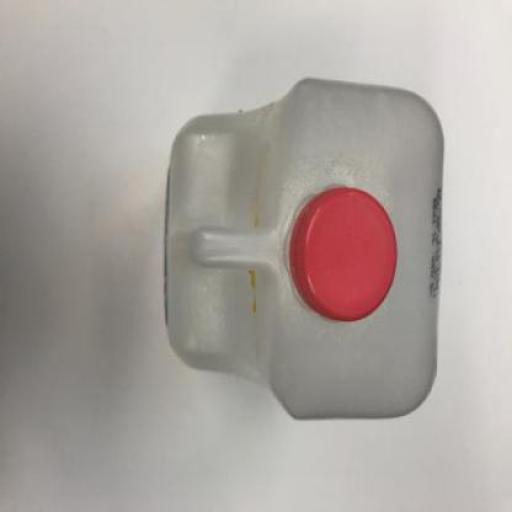plastic: (165, 78, 445, 420), (290, 185, 399, 321)
